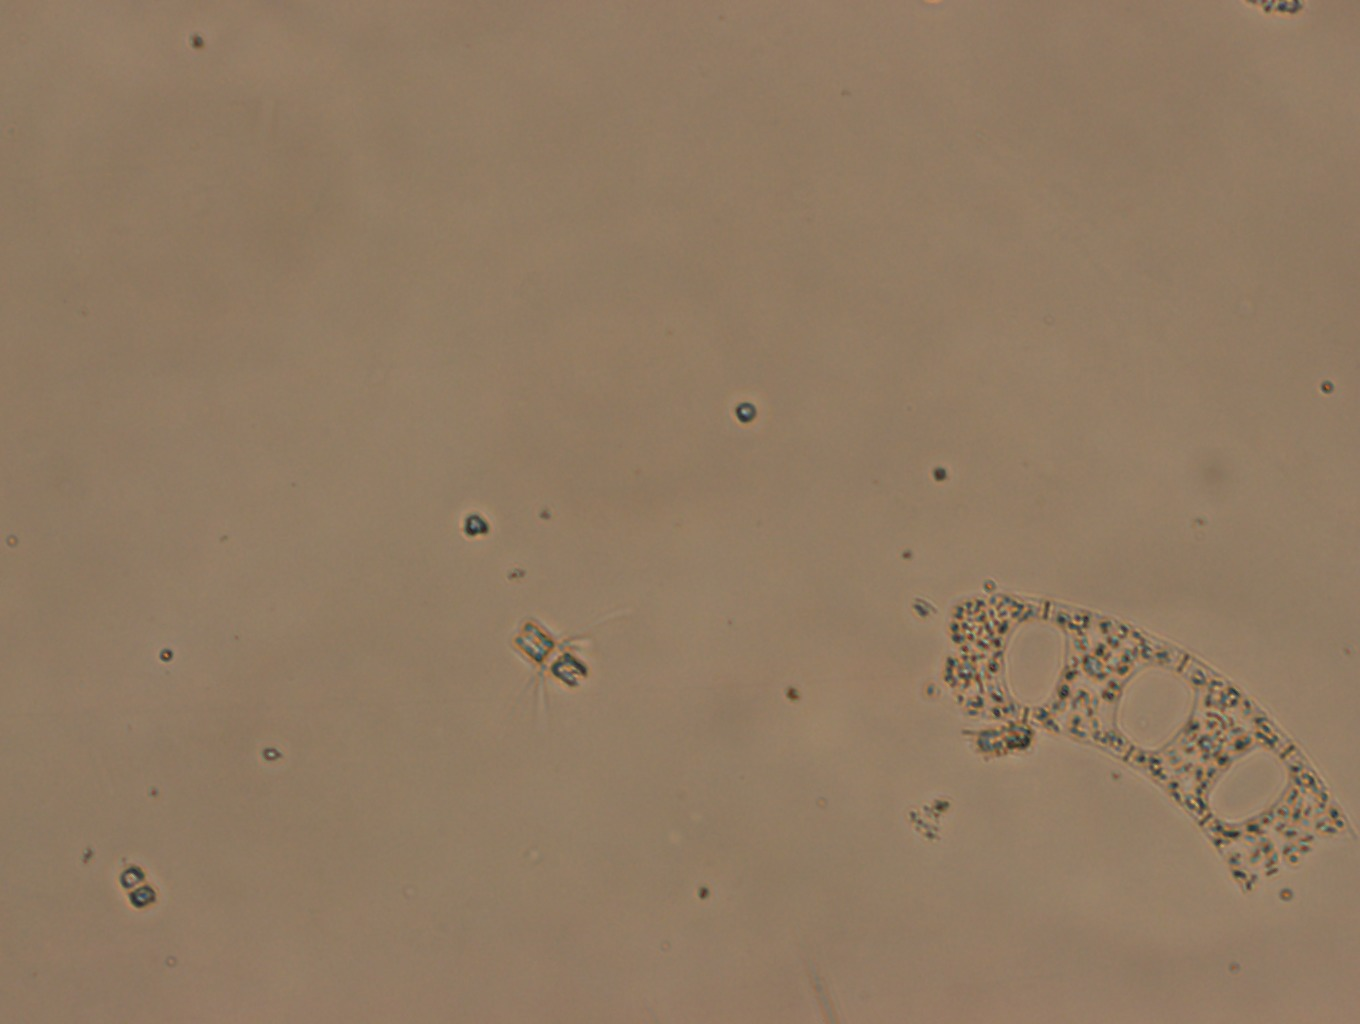chaetoceros: (502, 608, 627, 726)
eucampia: (948, 589, 1351, 890)
